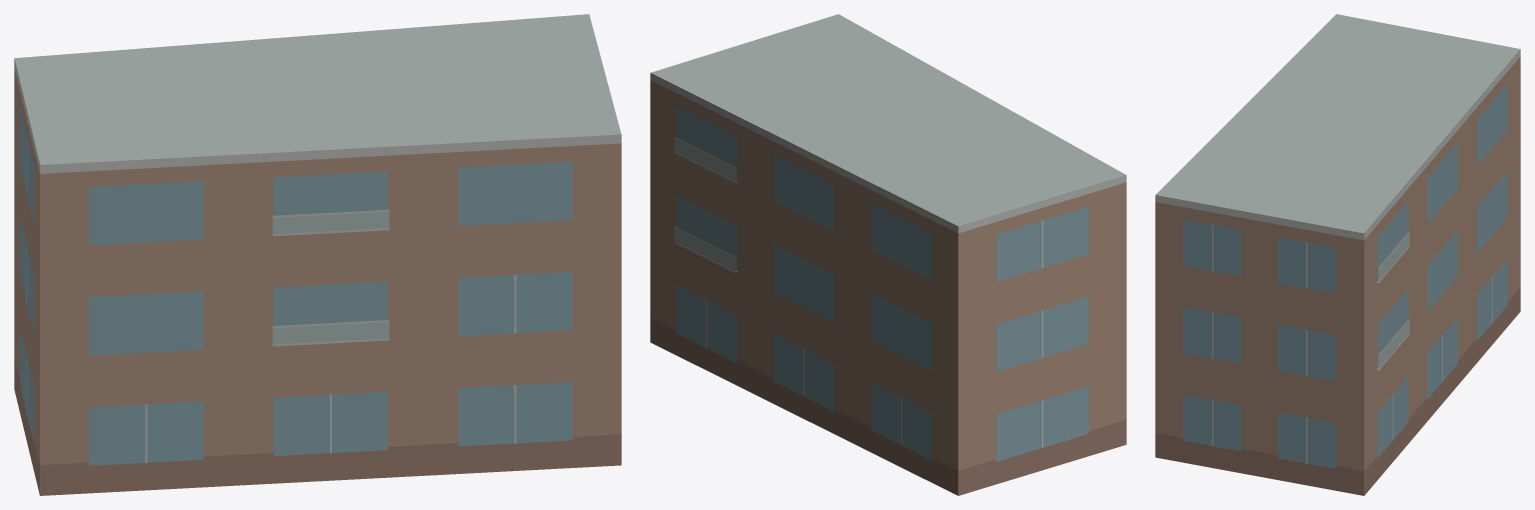
File: survey-upis-32886946.glb
3 renders of one model, left to right at view 1: azimuth 30°, elevation 25°; view 2: azimuth 150°, elevation 25°; view 3: azimuth 270°, elevation 25°, orthographic. The views are drawn at different scales.
Parts seen in each view (by area): view 1: survey-upis-32886946.tmp; view 2: survey-upis-32886946.tmp; view 3: survey-upis-32886946.tmp.
Boxes of the visible parts, x1,y1,x2,y2 form: survey-upis-32886946.tmp: (14,14,621,495); survey-upis-32886946.tmp: (650,14,1126,495); survey-upis-32886946.tmp: (1155,14,1520,495).
Size of the model in its own units: 16.42 by 9.15 by 11.55.
